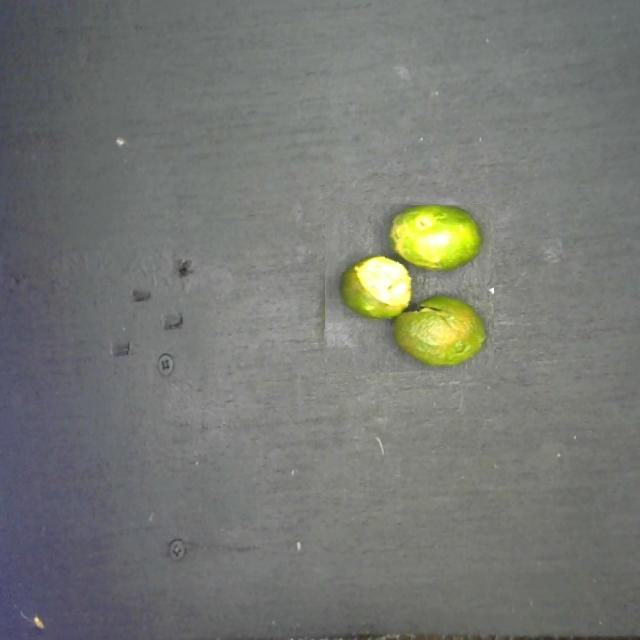biodegradable: (325, 203, 494, 373)
